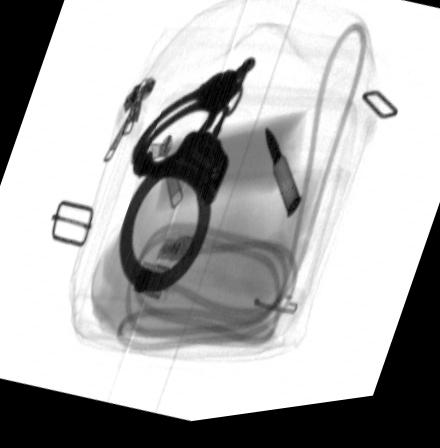Bullet: (263, 135, 298, 225)
HandCuffs: (117, 61, 255, 302)
